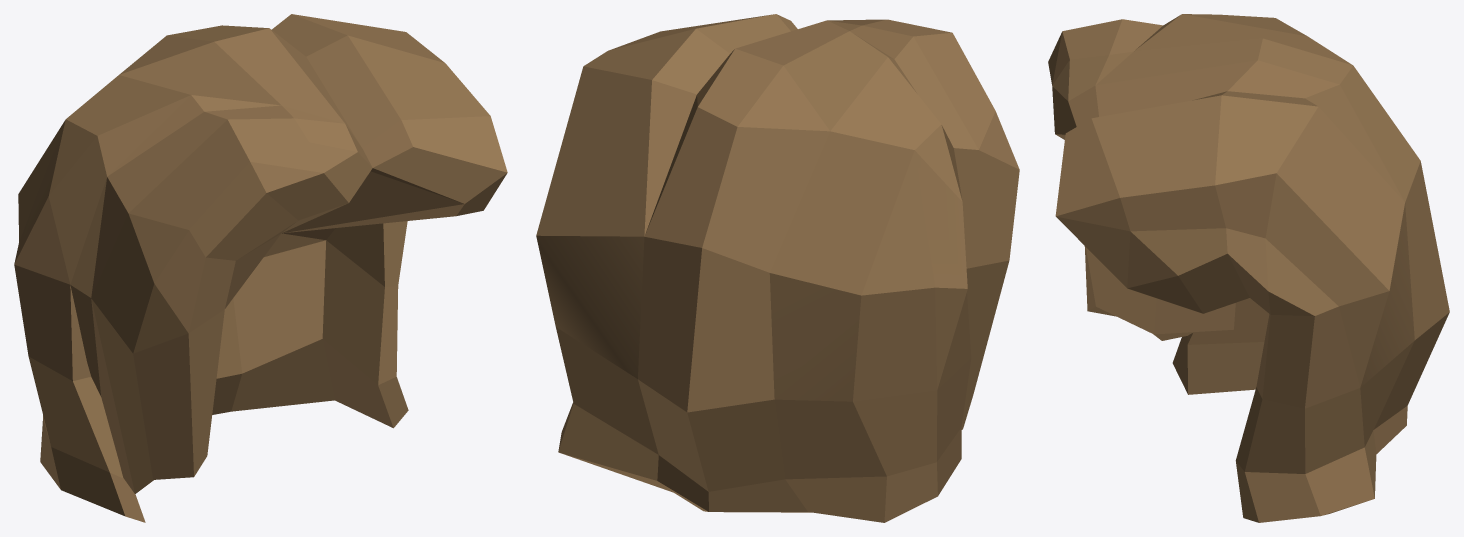
File: generic-short-04.glb
3 renders of one model, left to right at view 1: azimuth 30°, elevation 25°; view 2: azimuth 150°, elevation 25°; view 3: azimuth 270°, elevation 25°, orthographic. The views are drawn at different scales.
Parts seen in each view (by area): view 1: generic-short-04; view 2: generic-short-04; view 3: generic-short-04.
Boxes of the visible parts, box(x1,y1,x2,y2) form: generic-short-04: box(14, 14, 507, 522); generic-short-04: box(536, 14, 1019, 522); generic-short-04: box(1048, 14, 1449, 522).
Bounding box in the file's own units: 0.3255 × 0.3183 × 0.2833.
